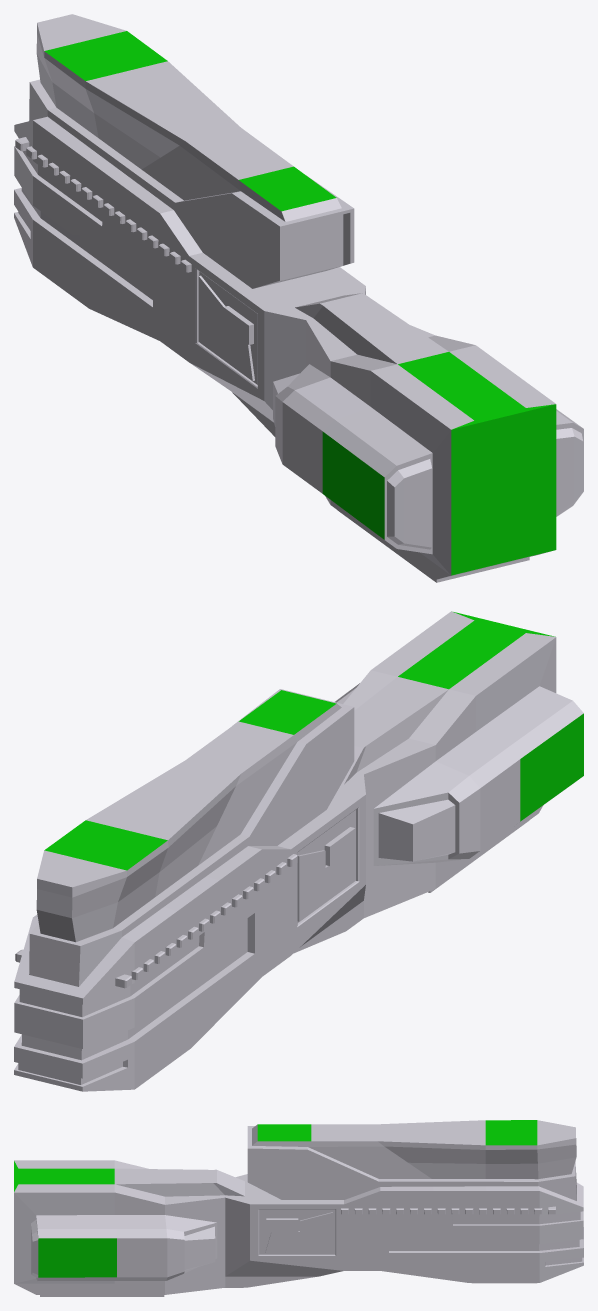
The model's file is hull.bullHead.fbx.
The picture shows the model from 3 angles, top to bottom: view 1: azimuth 30°, elevation 25°; view 2: azimuth 150°, elevation 25°; view 3: azimuth 270°, elevation 25°; orthographic projection. The views are drawn at different scales.
Parts seen in each view (by area): view 1: hull.bullHead; view 2: hull.bullHead; view 3: hull.bullHead.
Part boxes in pixels (x1,y1,x2,y2): hull.bullHead: (14, 14, 583, 582); hull.bullHead: (14, 611, 583, 1091); hull.bullHead: (14, 1120, 583, 1296).
Bounding box in the file's own units: 2.46 × 2.83 × 9.75.
